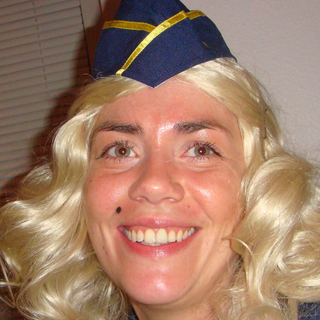eye: (175, 136, 225, 166), (94, 141, 144, 163)
